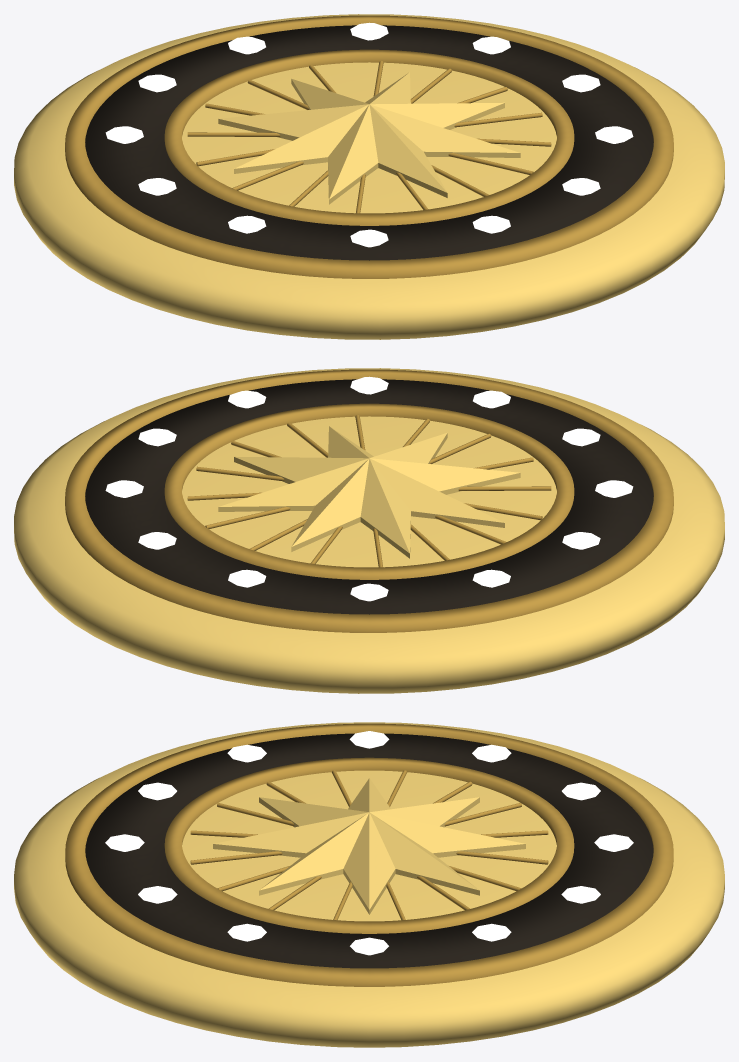
Rendered from Disc_GoldRush.fbx.
The picture shows the model from 3 angles, top to bottom: view 1: azimuth 30°, elevation 25°; view 2: azimuth 150°, elevation 25°; view 3: azimuth 270°, elevation 25°; orthographic projection.
Visible parts, largest first — view 1: GoldRush_Gold, GoldRush_Ink, GoldRush_DarkGold, GoldRush_Gem; view 2: GoldRush_Gold, GoldRush_Ink, GoldRush_DarkGold, GoldRush_Gem; view 3: GoldRush_Gold, GoldRush_Ink, GoldRush_DarkGold, GoldRush_Gem.
Boxes of the visible parts, box(x1,y1,x2,y2) form: GoldRush_Gold: box(14, 14, 724, 339); GoldRush_Ink: box(85, 25, 653, 260); GoldRush_DarkGold: box(65, 15, 673, 278); GoldRush_Gem: box(105, 22, 633, 247); GoldRush_Gold: box(14, 368, 724, 693); GoldRush_Ink: box(85, 379, 653, 614); GoldRush_DarkGold: box(65, 369, 673, 632); GoldRush_Gem: box(105, 376, 633, 601); GoldRush_Gold: box(14, 722, 724, 1047); GoldRush_Ink: box(85, 733, 653, 968); GoldRush_DarkGold: box(65, 723, 673, 986); GoldRush_Gem: box(105, 731, 633, 955).
Size of the model in its own units: 2.5 by 0.36 by 2.5.
